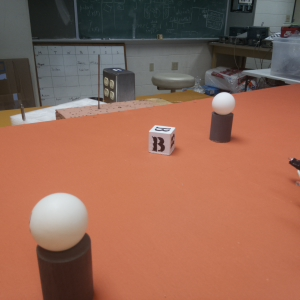blockB: (148, 124, 181, 158)
obstacle: (29, 191, 102, 300), (209, 91, 237, 146)
